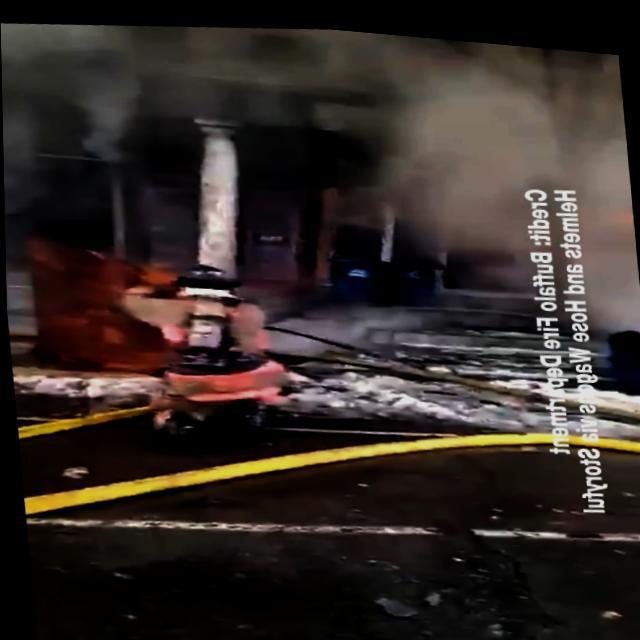no_helmet: (0, 0, 630, 219)
